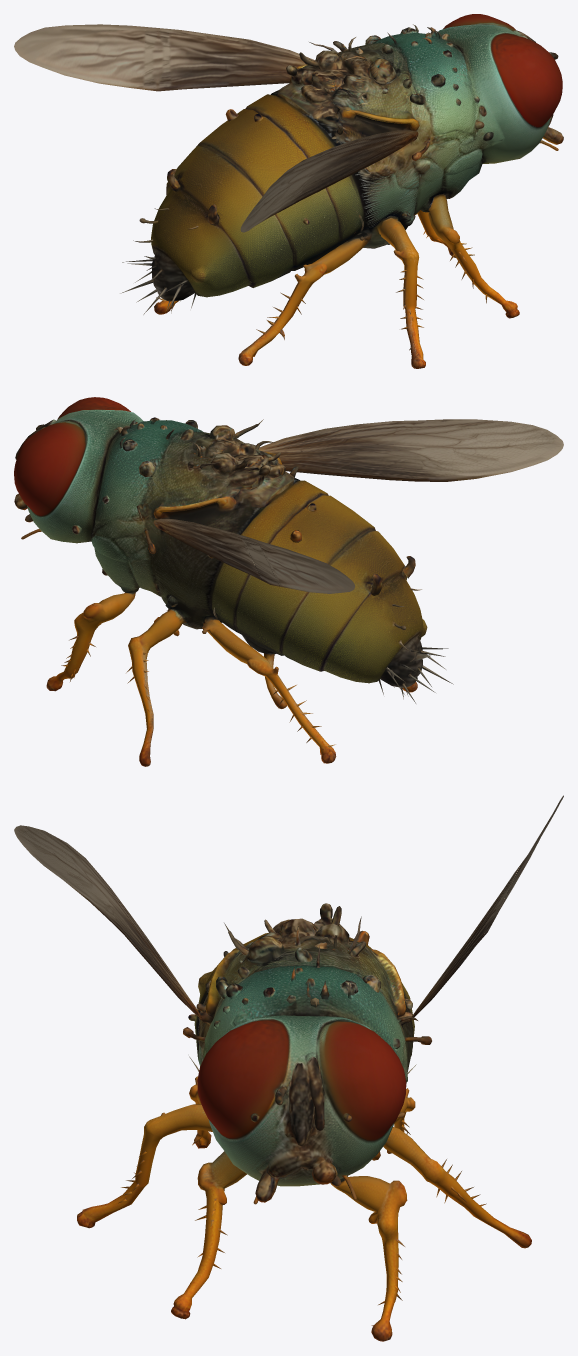
The model's file is blue_insect_3d_model.fbx.
3 renders of one model, top to bottom at view 1: azimuth 30°, elevation 25°; view 2: azimuth 150°, elevation 25°; view 3: azimuth 270°, elevation 25°, orthographic. The views are drawn at different scales.
Parts seen in each view (by area): view 1: tripo_0fb679f5_4f7a_404d_88e2_18558b7fb0f3; view 2: tripo_0fb679f5_4f7a_404d_88e2_18558b7fb0f3; view 3: tripo_0fb679f5_4f7a_404d_88e2_18558b7fb0f3.
Boxes of the visible parts, bbox=[...] form: tripo_0fb679f5_4f7a_404d_88e2_18558b7fb0f3: bbox=[14, 14, 563, 368]; tripo_0fb679f5_4f7a_404d_88e2_18558b7fb0f3: bbox=[14, 397, 563, 766]; tripo_0fb679f5_4f7a_404d_88e2_18558b7fb0f3: bbox=[14, 795, 563, 1341].
Size of the model in its own units: 0.9995 by 0.5835 by 0.8667.
1 material, 1 textured.
